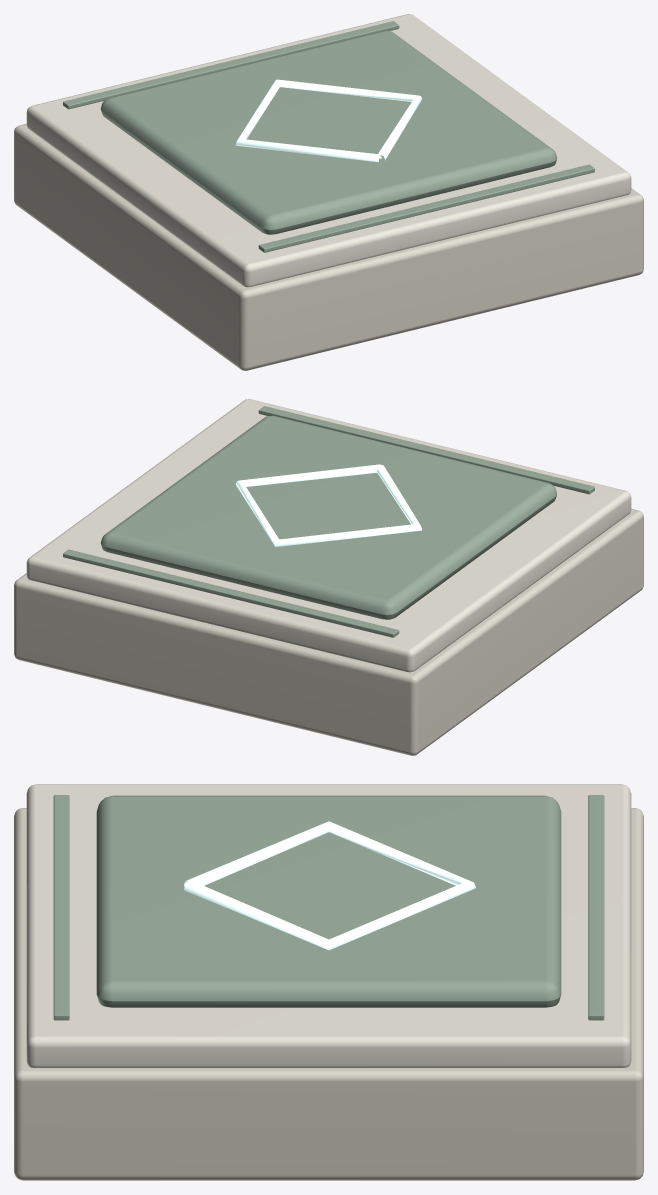
File: BG_MEC_SURFACE_PRESSURE_PLATE_001.glb
The picture shows the model from 3 angles, top to bottom: view 1: azimuth 30°, elevation 25°; view 2: azimuth 150°, elevation 25°; view 3: azimuth 270°, elevation 25°; orthographic projection. The views are drawn at different scales.
Visible parts, largest first — view 1: Recessed foundation, Inset pressure pad, Dressed upper slab, Quiet pressure diamond, Sage dressed border -1, Sage dressed border 1; view 2: Recessed foundation, Inset pressure pad, Dressed upper slab, Quiet pressure diamond, Sage dressed border 1, Sage dressed border -1; view 3: Inset pressure pad, Recessed foundation, Dressed upper slab, Quiet pressure diamond, Sage dressed border 1, Sage dressed border -1.
Boxes of the visible parts, bbox=[...] form: Recessed foundation: bbox=[14, 123, 643, 370]; Inset pressure pad: bbox=[101, 30, 557, 234]; Dressed upper slab: bbox=[26, 14, 631, 287]; Quiet pressure diamond: bbox=[235, 79, 421, 162]; Sage dressed border -1: bbox=[258, 164, 594, 252]; Sage dressed border 1: bbox=[63, 21, 399, 109]; Recessed foundation: bbox=[14, 508, 643, 755]; Inset pressure pad: bbox=[100, 415, 556, 619]; Dressed upper slab: bbox=[26, 399, 631, 672]; Quiet pressure diamond: bbox=[236, 464, 422, 547]; Sage dressed border 1: bbox=[63, 549, 399, 637]; Sage dressed border -1: bbox=[258, 406, 594, 494]; Inset pressure pad: bbox=[96, 795, 561, 1007]; Recessed foundation: bbox=[14, 808, 643, 1180]; Dressed upper slab: bbox=[26, 784, 631, 1067]; Quiet pressure diamond: bbox=[184, 821, 475, 950]; Sage dressed border 1: bbox=[588, 795, 604, 1020]; Sage dressed border -1: bbox=[53, 795, 69, 1020].
Bounding box in the file's own units: 1 × 0.292 × 0.99.
4 materials, 1 textured.
